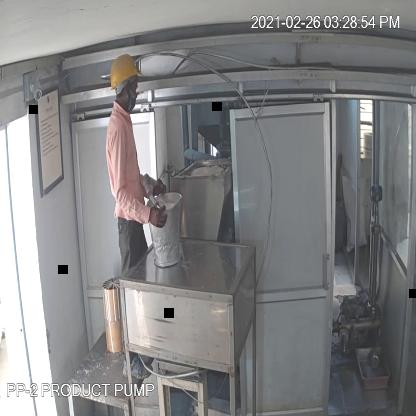helmet: (108, 50, 144, 95)
